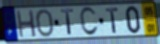0: (125, 5, 142, 35)
C: (79, 6, 100, 38)
H: (15, 9, 38, 39)
O: (35, 8, 56, 38)
T: (60, 8, 75, 37), (105, 7, 120, 35)
